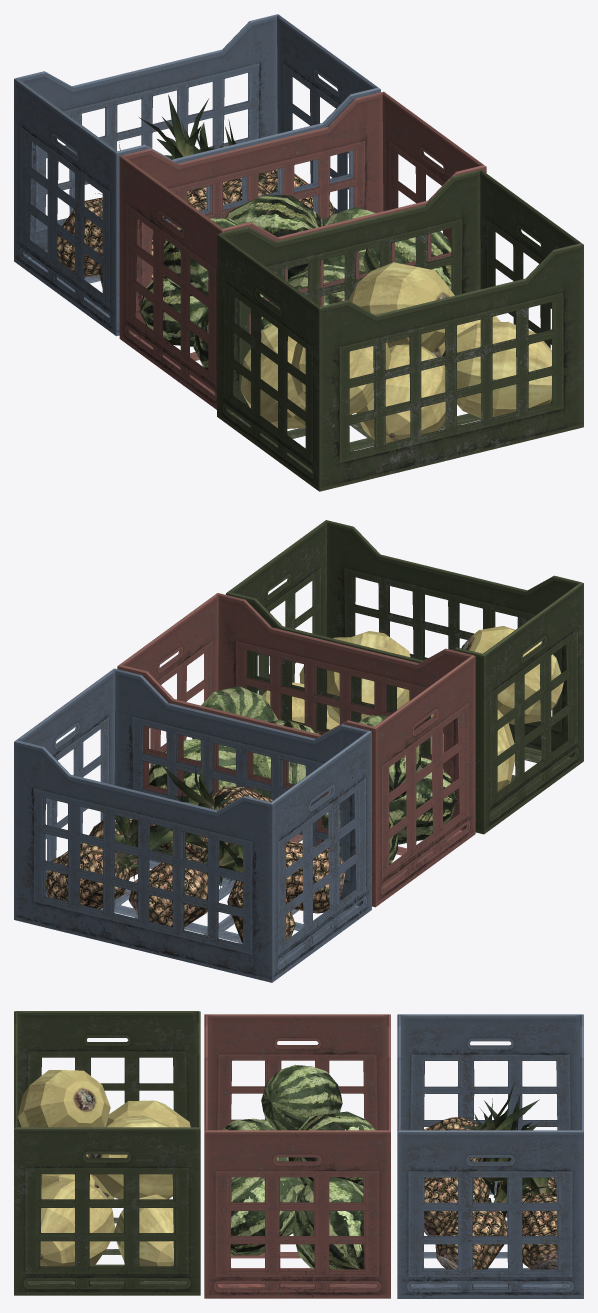
File: M_cp_sn_zawuxiang_02.fbx
The picture shows the model from 3 angles, top to bottom: view 1: azimuth 30°, elevation 25°; view 2: azimuth 150°, elevation 25°; view 3: azimuth 270°, elevation 25°; orthographic projection. The views are drawn at different scales.
Visible parts, largest first — view 1: M_cp_sn_zawuxiang_02.mo; view 2: M_cp_sn_zawuxiang_02.mo; view 3: M_cp_sn_zawuxiang_02.mo.
Boxes of the visible parts, <box> form: M_cp_sn_zawuxiang_02.mo: <box>14,14,583,491</box>; M_cp_sn_zawuxiang_02.mo: <box>14,520,583,982</box>; M_cp_sn_zawuxiang_02.mo: <box>14,1011,583,1298</box>.
Size of the model in its own units: 134 by 86.52 by 267.
